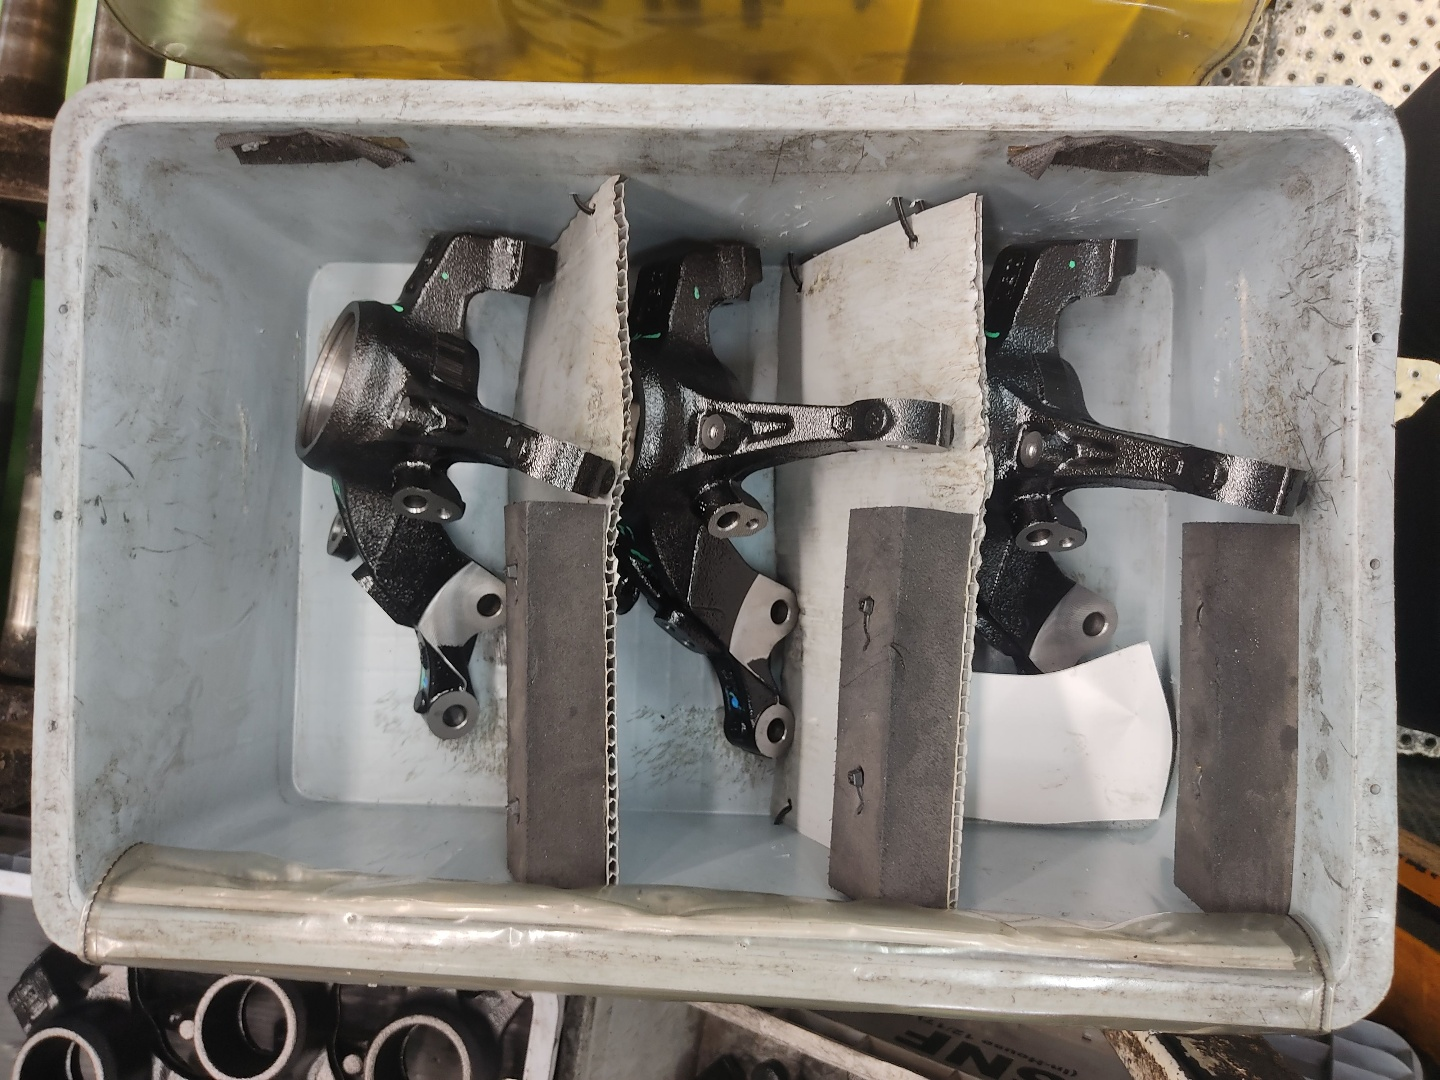abs-rh: (621, 218, 960, 766), (968, 225, 1318, 745), (289, 221, 621, 749)
